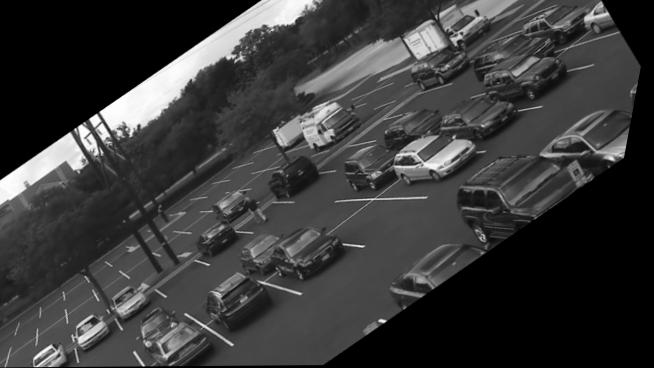empty: (298, 313, 398, 366), (339, 196, 435, 242), (164, 258, 222, 300), (559, 34, 627, 69), (396, 86, 451, 115), (306, 200, 361, 227), (356, 115, 407, 144), (195, 275, 236, 309), (248, 205, 298, 230), (98, 340, 144, 367), (79, 293, 113, 326), (494, 14, 537, 40), (327, 142, 369, 168), (348, 85, 392, 108), (132, 255, 172, 280), (51, 314, 82, 345), (163, 232, 203, 255), (107, 275, 141, 302), (448, 82, 487, 105), (21, 336, 49, 367), (104, 267, 135, 294), (152, 230, 188, 253), (50, 305, 78, 333), (249, 168, 285, 189), (77, 285, 105, 312), (93, 259, 124, 283), (128, 250, 160, 272), (275, 147, 312, 166), (178, 210, 212, 230), (50, 328, 79, 351), (191, 212, 222, 233), (232, 170, 264, 190), (256, 151, 289, 169), (203, 192, 235, 210), (75, 274, 98, 299), (25, 326, 49, 349), (113, 247, 142, 266), (528, 0, 565, 14), (52, 291, 75, 313), (0, 345, 24, 366), (175, 197, 210, 211), (258, 177, 280, 199), (247, 147, 276, 163), (32, 309, 51, 331), (204, 182, 235, 195), (11, 324, 27, 348), (226, 165, 255, 178), (191, 234, 211, 250), (4, 356, 21, 368), (28, 357, 46, 368), (0, 338, 9, 355)
occupied: (467, 157, 605, 240), (386, 241, 500, 308), (542, 112, 637, 166), (400, 133, 485, 189), (486, 53, 571, 106), (215, 272, 291, 331), (282, 226, 358, 279), (159, 317, 230, 367), (446, 99, 527, 140), (413, 40, 474, 93), (304, 101, 367, 151), (476, 33, 545, 78), (381, 107, 447, 152), (274, 155, 333, 202), (350, 145, 401, 193), (524, 6, 588, 44), (249, 234, 289, 277), (204, 222, 249, 258), (220, 189, 261, 224), (123, 286, 162, 321), (88, 314, 123, 351), (584, 1, 617, 35), (152, 308, 185, 341), (45, 342, 84, 367)
